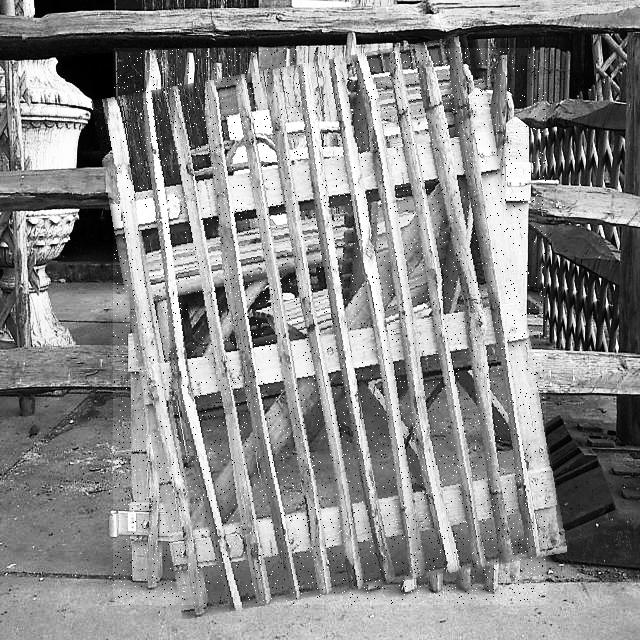fences: (113, 48, 546, 605)
